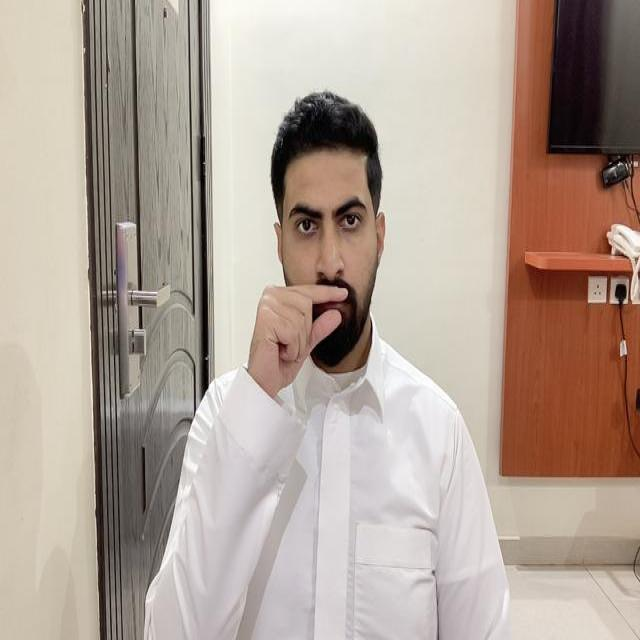fasting: (246, 282, 348, 398)
